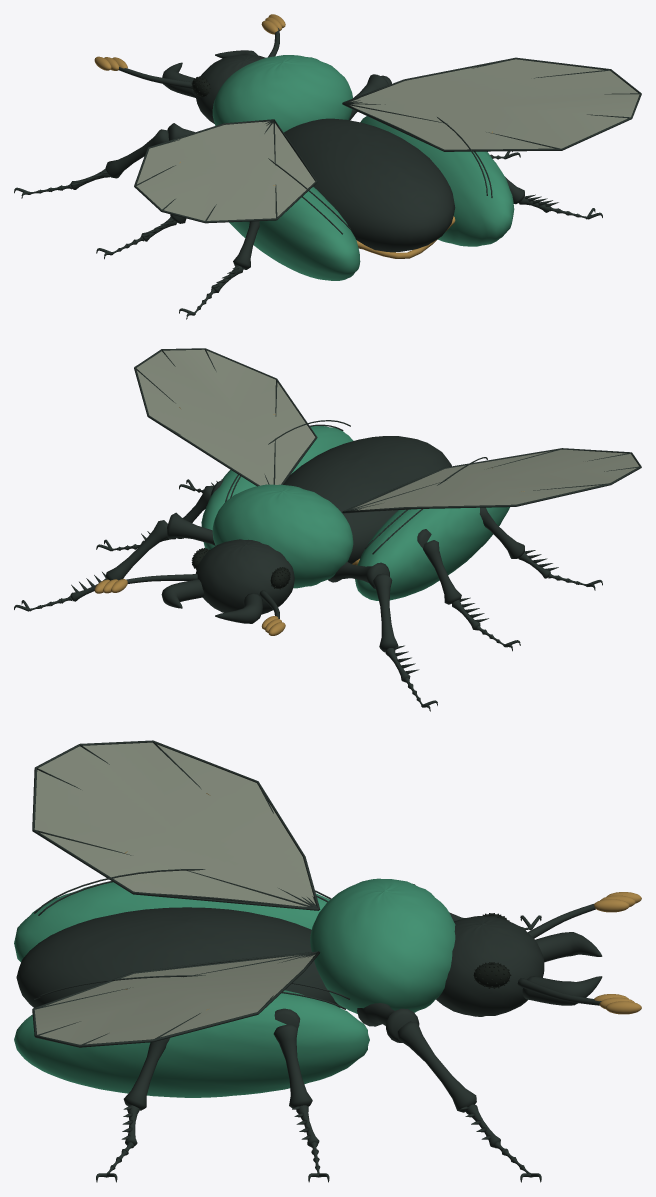
3 renders of one model, top to bottom at view 1: azimuth 30°, elevation 25°; view 2: azimuth 150°, elevation 25°; view 3: azimuth 270°, elevation 25°, orthographic. The views are drawn at different scales.
Parts seen in each view (by area): view 1: B09_SPEC_Wing membrane_export, B09_SPEC_Chitin_export, B09_SPEC_Iridescent jade_export, B09_SPEC_Iridescent bronze_export; view 2: B09_SPEC_Chitin_export, B09_SPEC_Wing membrane_export, B09_SPEC_Iridescent jade_export, B09_SPEC_Iridescent bronze_export, B09_SPEC_Eyes_export; view 3: B09_SPEC_Wing membrane_export, B09_SPEC_Chitin_export, B09_SPEC_Iridescent jade_export, B09_SPEC_Iridescent bronze_export, B09_SPEC_Eyes_export.
Boxes of the visible parts, left/top/right/bottom form: B09_SPEC_Wing membrane_export: left=136, top=59, right=639, bottom=220; B09_SPEC_Chitin_export: left=14, top=28, right=641, bottom=319; B09_SPEC_Iridescent jade_export: left=212, top=55, right=514, bottom=280; B09_SPEC_Iridescent bronze_export: left=94, top=14, right=492, bottom=258; B09_SPEC_Chitin_export: left=14, top=348, right=641, bottom=711; B09_SPEC_Wing membrane_export: left=136, top=349, right=639, bottom=510; B09_SPEC_Iridescent jade_export: left=201, top=426, right=509, bottom=600; B09_SPEC_Iridescent bronze_export: left=94, top=407, right=524, bottom=635; B09_SPEC_Eyes_export: left=191, top=548, right=290, bottom=589; B09_SPEC_Wing membrane_export: left=34, top=742, right=315, bottom=1044; B09_SPEC_Chitin_export: left=16, top=740, right=602, bottom=1182; B09_SPEC_Iridescent jade_export: left=14, top=878, right=455, bottom=1097; B09_SPEC_Iridescent bronze_export: left=125, top=793, right=641, bottom=1014; B09_SPEC_Eyes_export: left=473, top=913, right=511, bottom=988.
Size of the model in its own units: 3.28 by 0.8279 by 2.88.
